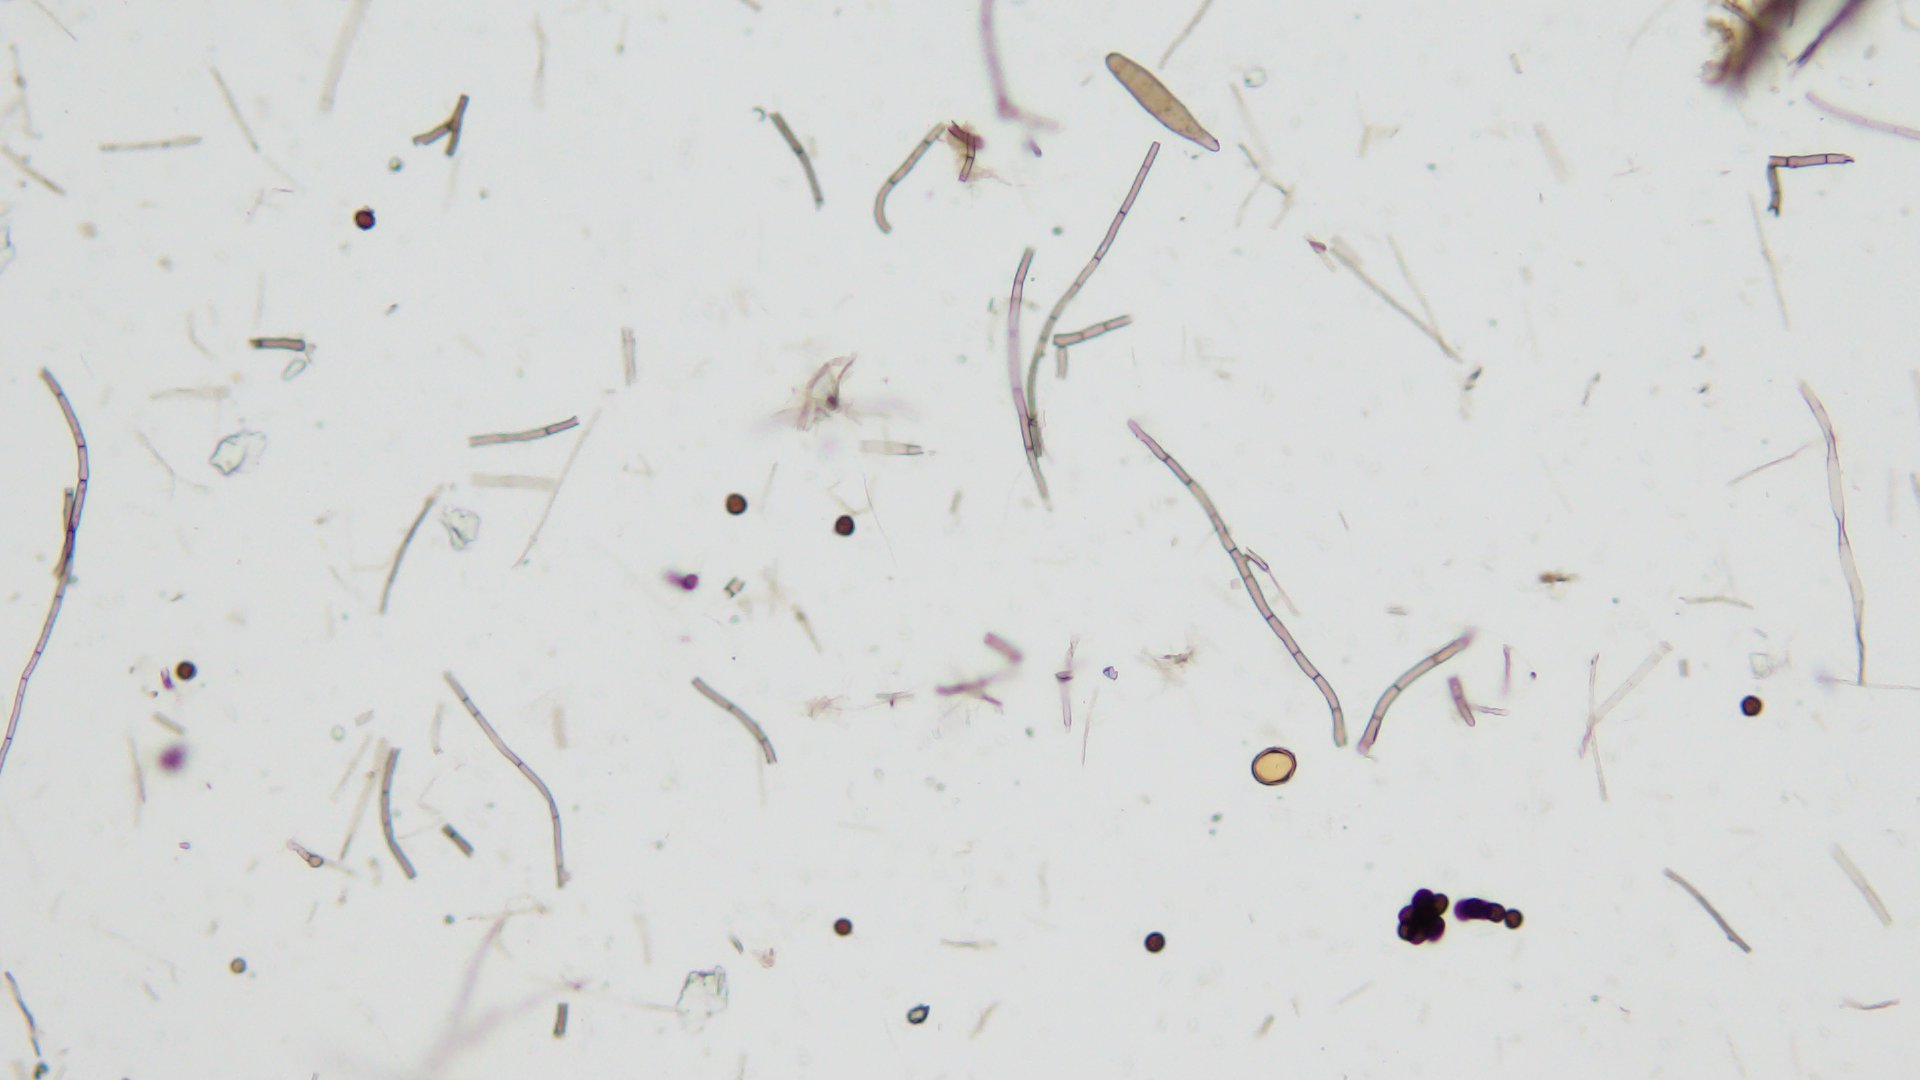dbb_spore: (1108, 49, 1222, 154)
shs_spore: (171, 661, 196, 680), (353, 208, 375, 231), (727, 492, 746, 516), (833, 513, 852, 538), (1143, 932, 1166, 952), (1741, 695, 1763, 715), (833, 918, 855, 936), (1505, 913, 1523, 930)
xb_spore: (1250, 749, 1300, 790)
